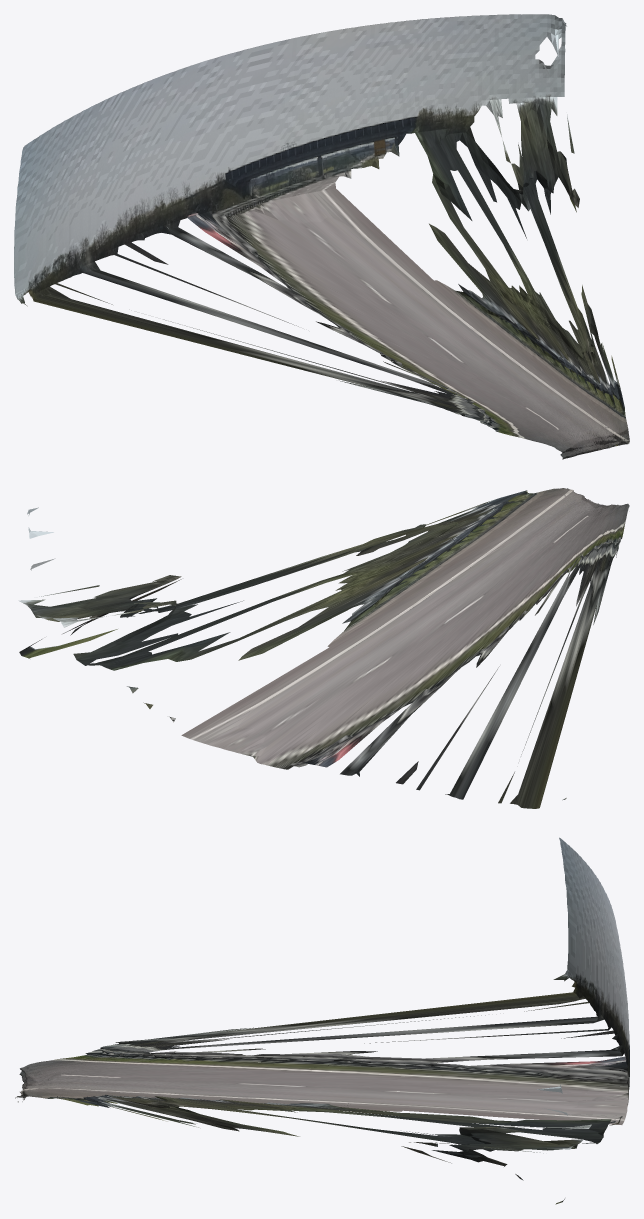
The picture shows the model from 3 angles, top to bottom: view 1: azimuth 30°, elevation 25°; view 2: azimuth 150°, elevation 25°; view 3: azimuth 270°, elevation 25°; orthographic projection. The views are drawn at different scales.
Visible parts, largest first — view 1: defaultobject; view 2: defaultobject; view 3: defaultobject.
Boxes of the visible parts, x1,y1,x2,y2 form: defaultobject: (14, 14, 629, 459); defaultobject: (18, 488, 629, 808); defaultobject: (15, 837, 629, 1204).
Bounding box in the file's own units: 41.11 × 12.6 × 44.65.
1 material, 1 textured.
